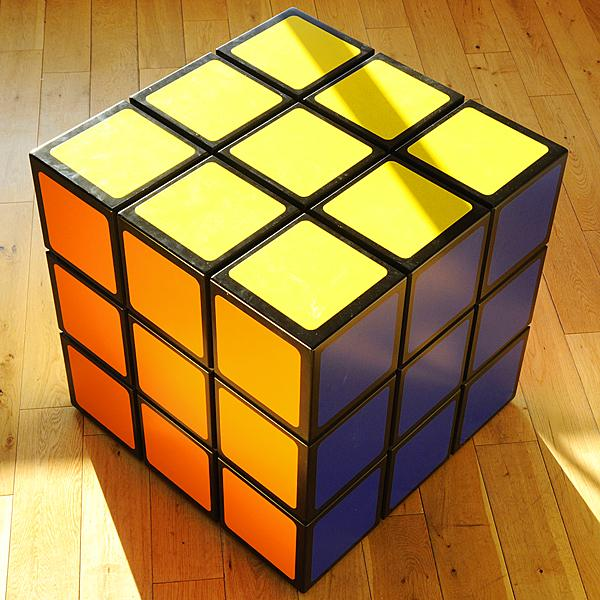rubiks_cube: (39, 15, 561, 581)
